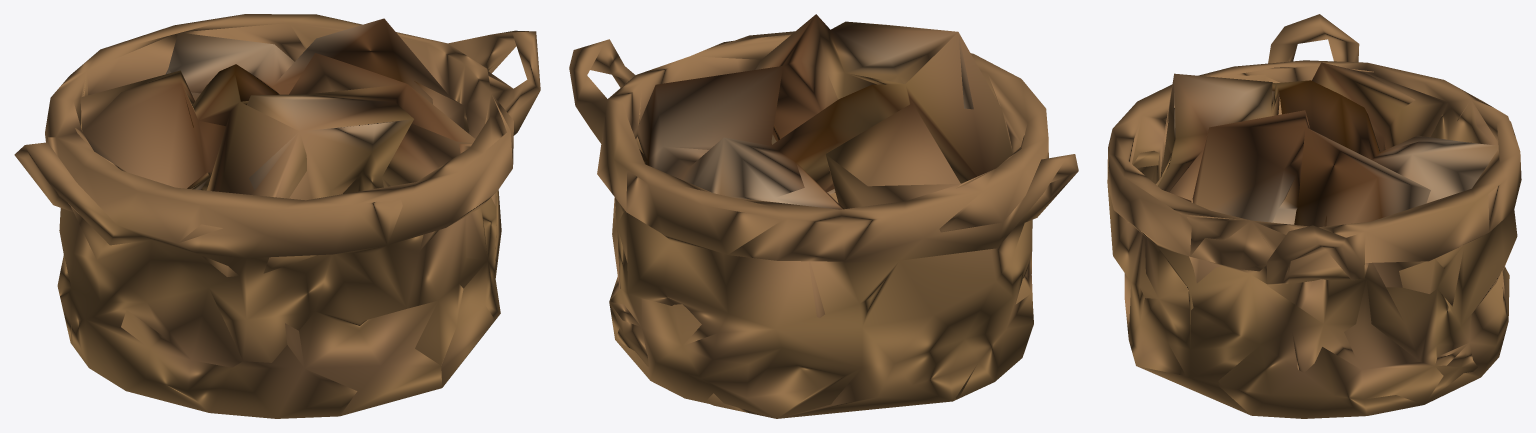
Rendered from gen3d-firewood-basket-lod1.glb.
3 views of the same model, side by side, from view 1: azimuth 30°, elevation 25°; view 2: azimuth 150°, elevation 25°; view 3: azimuth 270°, elevation 25° (orthographic). The views are drawn at different scales.
Visible parts, largest first — view 1: part_0; view 2: part_0; view 3: part_0.
Boxes of the visible parts, box(x1,y1,x2,y2) form: part_0: box(14, 14, 540, 418); part_0: box(569, 14, 1078, 418); part_0: box(1107, 14, 1521, 418).
Size of the model in its own units: 1.92 by 0.9923 by 1.52.
